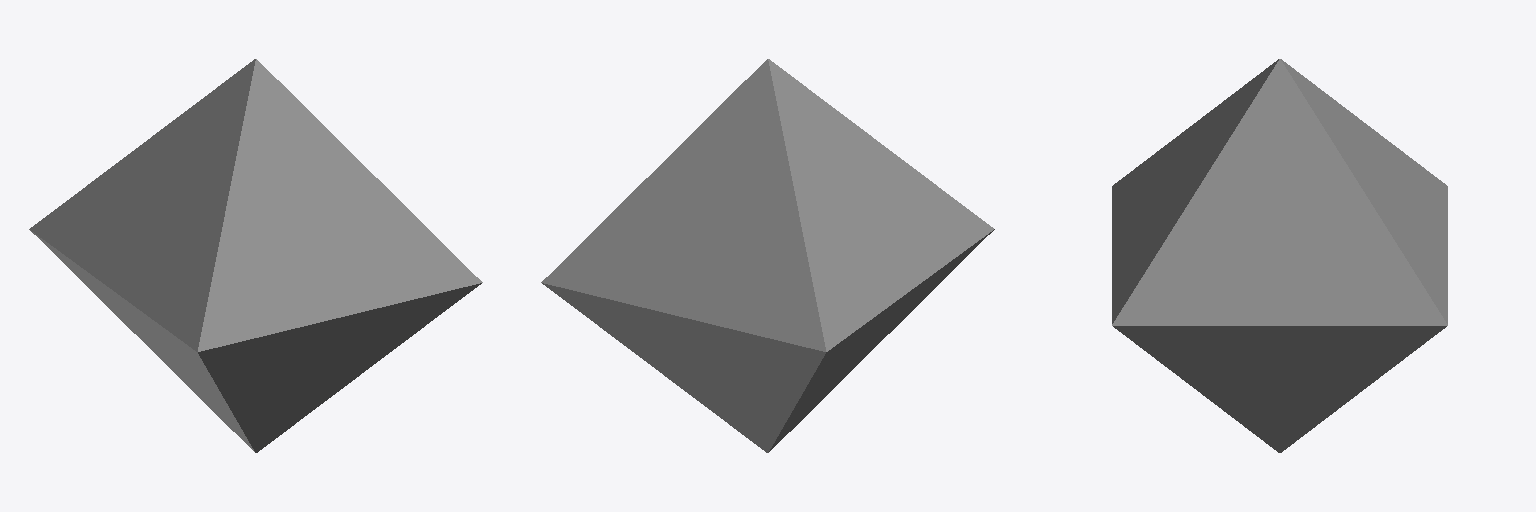
File: Dado8Caras.obj
The picture shows the model from 3 angles: view 1: azimuth 30°, elevation 25°; view 2: azimuth 150°, elevation 25°; view 3: azimuth 270°, elevation 25°; orthographic projection.
Parts seen in each view (by area): view 1: Pyramid001, Pyramid002; view 2: Pyramid001, Pyramid002; view 3: Pyramid001, Pyramid002.
Boxes of the visible parts, x1,y1,x2,y2 form: Pyramid001: [30, 59, 482, 351]; Pyramid002: [29, 229, 481, 452]; Pyramid001: [541, 59, 993, 351]; Pyramid002: [542, 229, 994, 452]; Pyramid001: [1112, 59, 1447, 325]; Pyramid002: [1113, 326, 1446, 452].
Bounding box in the file's own units: 9.73 × 12.89 × 9.94.